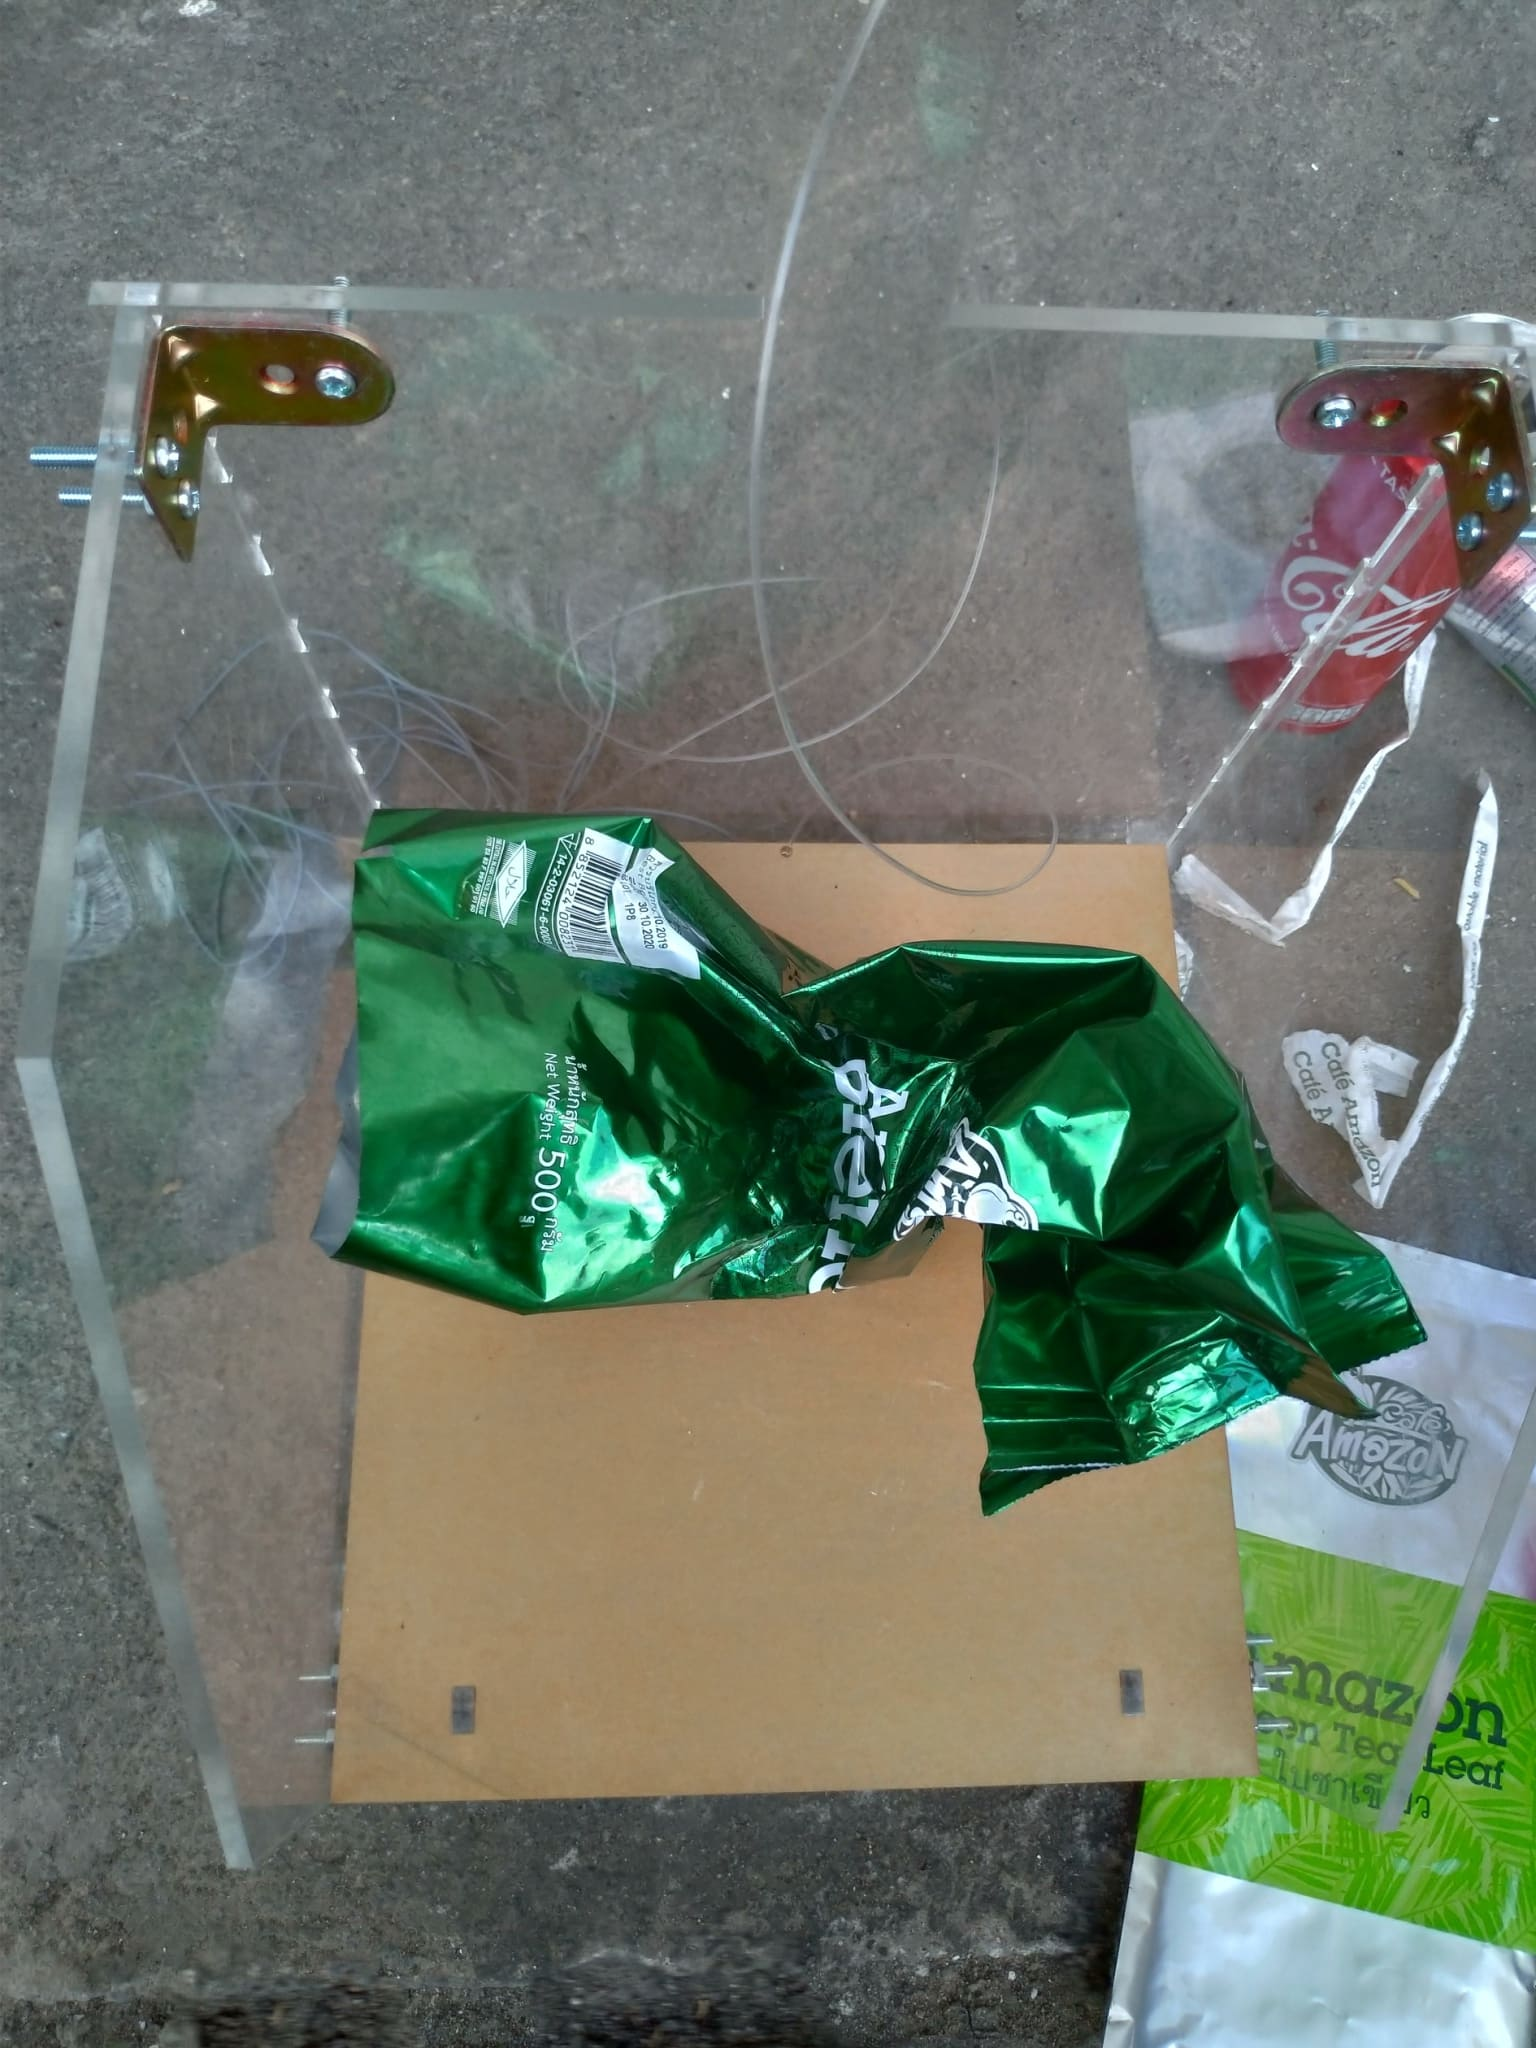AlCan: (1233, 327, 1517, 745)
Others: (324, 801, 1425, 1501), (1113, 1205, 1536, 2048)
